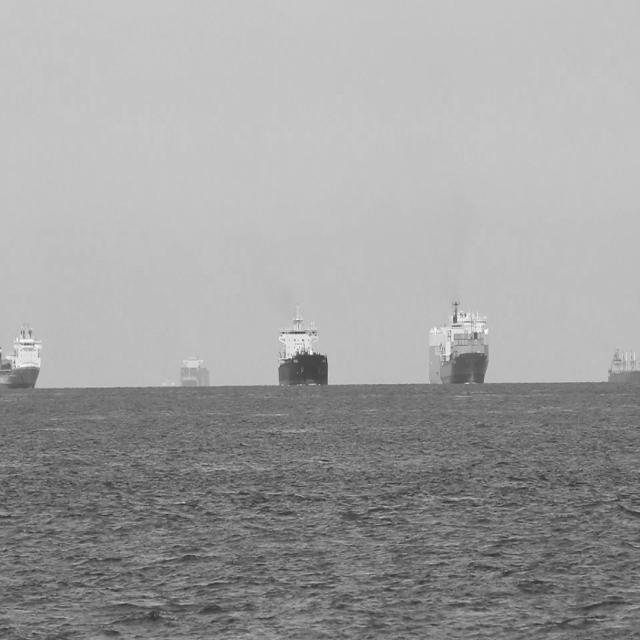ship: (428, 295, 492, 390), (277, 296, 329, 388), (0, 322, 44, 392), (605, 347, 639, 387), (179, 354, 212, 391), (158, 375, 178, 393)
